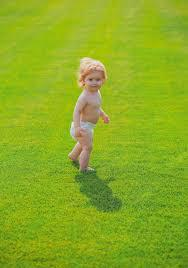child: (55, 55, 117, 178)
